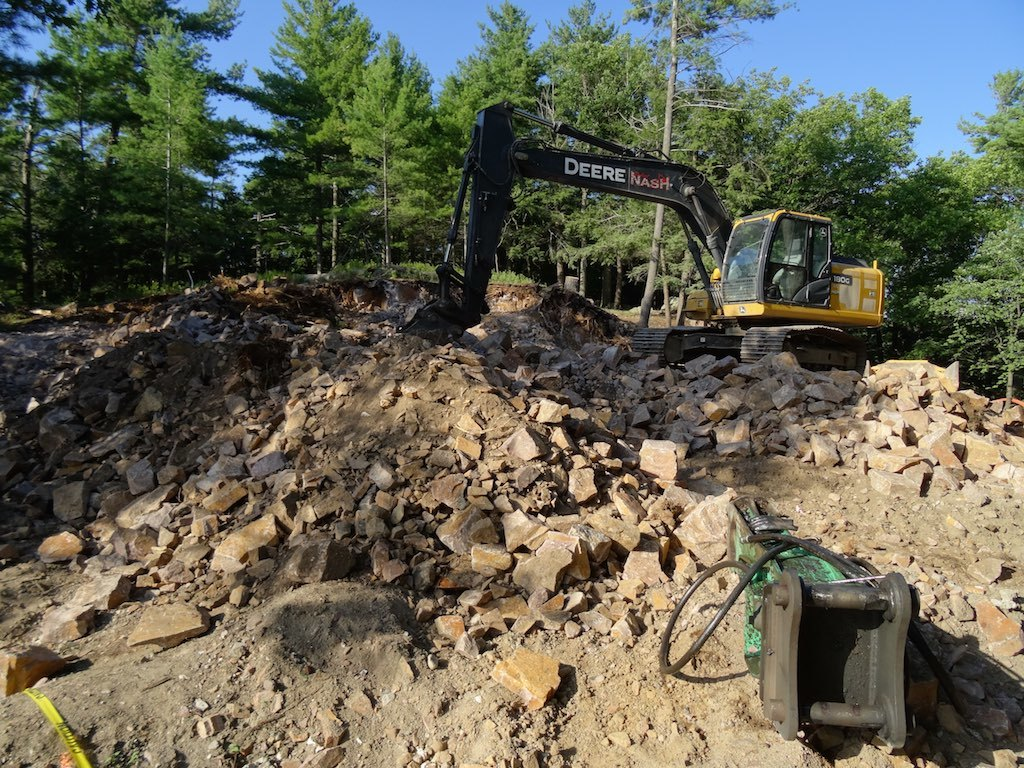Tree: (0, 0, 1024, 415)
